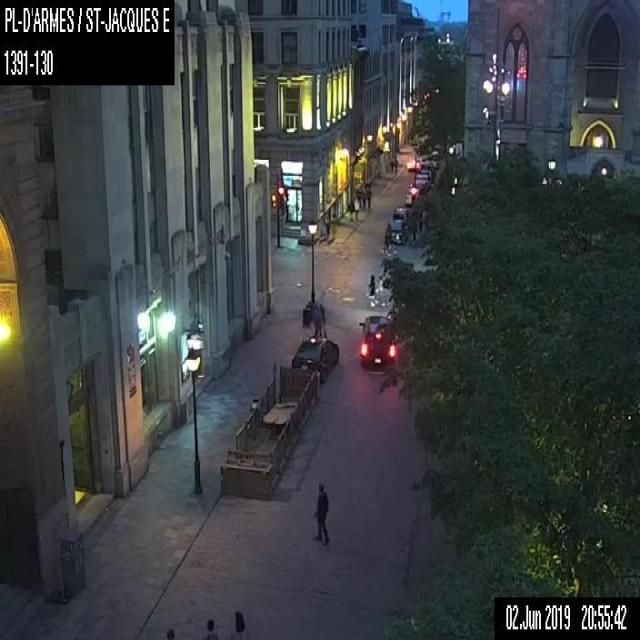pedestrian: (312, 482, 329, 544), (231, 608, 247, 638), (312, 300, 321, 339), (383, 222, 393, 255), (204, 617, 217, 639), (318, 302, 325, 336), (368, 273, 374, 307), (347, 199, 353, 223), (355, 186, 361, 209), (360, 187, 366, 210), (365, 186, 371, 209), (354, 197, 359, 220), (166, 628, 174, 639), (393, 157, 398, 173), (389, 158, 393, 174)
vehicle: (291, 336, 339, 383), (357, 313, 398, 368), (388, 218, 408, 244), (392, 202, 411, 220), (404, 188, 419, 205), (414, 174, 429, 189), (419, 168, 432, 180)
